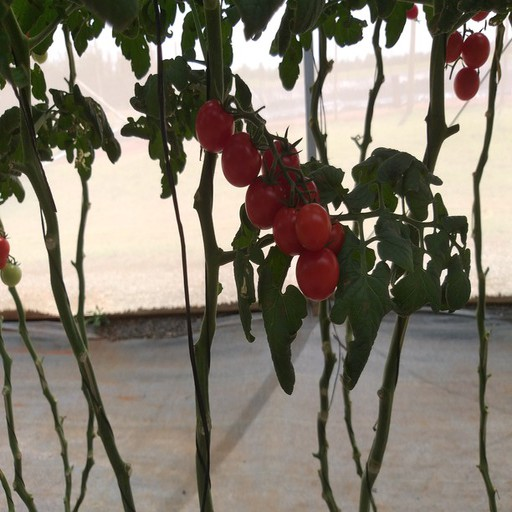red tomato bunch: (195, 98, 347, 300), (434, 1, 491, 97)
